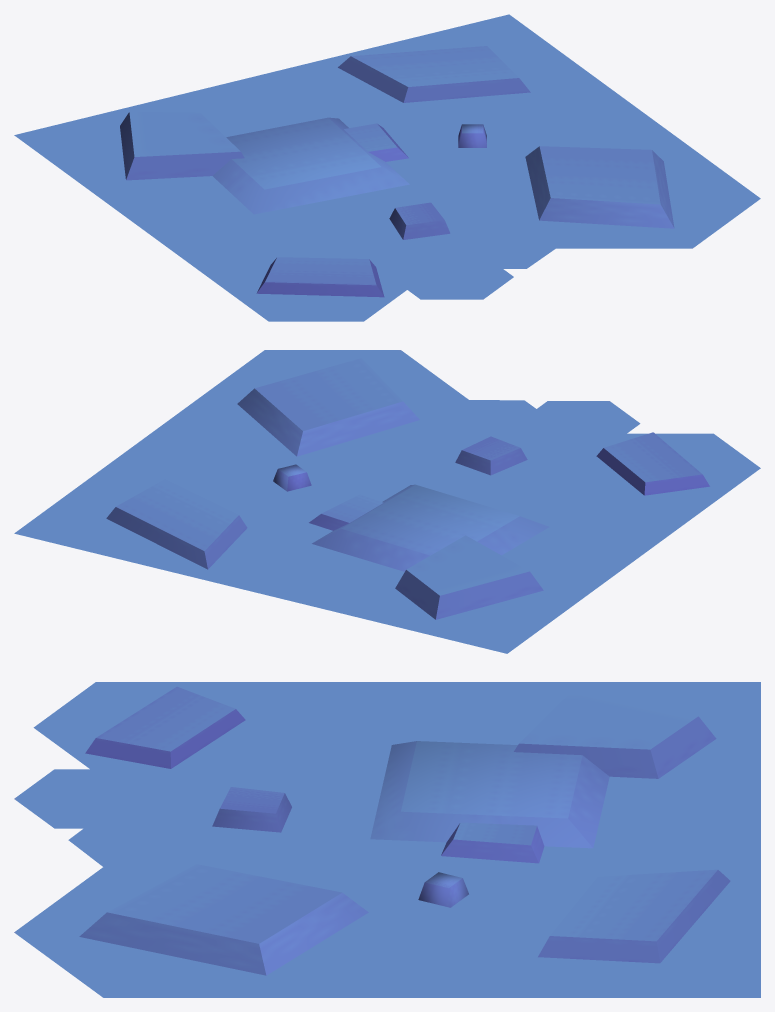
File: Water-Floor-Border-Pebbles.fbx
3 renders of one model, top to bottom at view 1: azimuth 30°, elevation 25°; view 2: azimuth 150°, elevation 25°; view 3: azimuth 270°, elevation 25°, orthographic. The views are drawn at different scales.
Visible parts, largest first — view 1: Floor_Border_Pebbles; view 2: Floor_Border_Pebbles; view 3: Floor_Border_Pebbles.
Part boxes in pixels (x1,y1,x2,y2): Floor_Border_Pebbles: (14,14,760,321); Floor_Border_Pebbles: (14,350,760,653); Floor_Border_Pebbles: (14,682,760,997).
Size of the model in its own units: 1 by 0.0358 by 1.
